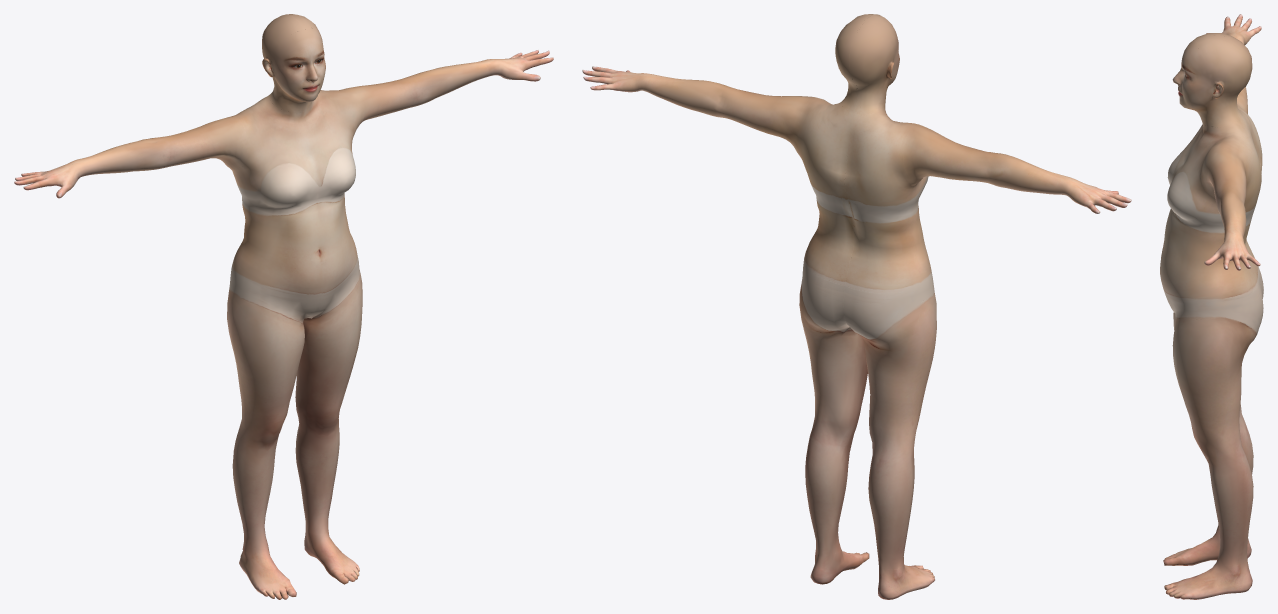
Rendered from fmale_smpl_std.fbx.
The picture shows the model from 3 angles, left to right: view 1: azimuth 30°, elevation 25°; view 2: azimuth 150°, elevation 25°; view 3: azimuth 270°, elevation 25°; orthographic projection. The views are drawn at different scales.
Parts seen in each view (by area): view 1: f_avg; view 2: f_avg; view 3: f_avg.
Boxes of the visible parts, left/top/right/bottom form: f_avg: left=14, top=14, right=553, bottom=599; f_avg: left=582, top=14, right=1131, bottom=599; f_avg: left=1160, top=14, right=1263, bottom=599.
Bounding box in the file's own units: 167 × 166 × 28.7.
